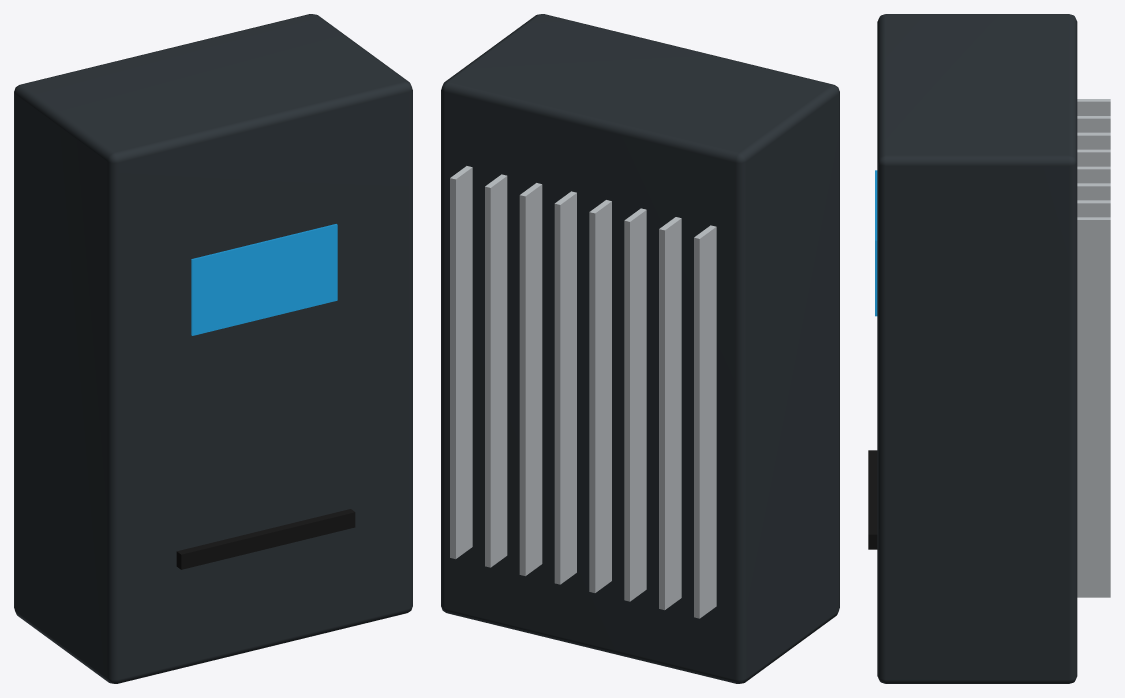
The model's file is dev_vsd.glb.
The picture shows the model from 3 angles, left to right: view 1: azimuth 30°, elevation 25°; view 2: azimuth 150°, elevation 25°; view 3: azimuth 270°, elevation 25°; orthographic projection.
Parts seen in each view (by area): view 1: Cube, Cube.009, Cube.010; view 2: Cube, Cube.006, Cube.001, Cube.003, Cube.007, Cube.002, Cube.005, Cube.008, Cube.004; view 3: Cube, Cube.008, Cube.010, Cube.003, Cube.004, Cube.005, Cube.006, Cube.007, Cube.001, Cube.002, Cube.009.
Part boxes in pixels (<box>): Cube: <box>14,14,412,683</box>; Cube.009: <box>191,224,337,335</box>; Cube.010: <box>176,509,355,569</box>; Cube: <box>441,14,839,683</box>; Cube.006: <box>519,183,542,576</box>; Cube.001: <box>694,225,716,618</box>; Cube.003: <box>624,208,646,601</box>; Cube.007: <box>485,174,507,567</box>; Cube.002: <box>659,217,681,610</box>; Cube.005: <box>554,191,576,584</box>; Cube.008: <box>450,166,472,559</box>; Cube.004: <box>589,200,611,592</box>; Cube: <box>877,14,1077,683</box>; Cube.008: <box>1077,217,1110,597</box>; Cube.010: <box>868,450,877,549</box>; Cube.003: <box>1077,132,1110,149</box>; Cube.004: <box>1077,149,1110,166</box>; Cube.005: <box>1077,166,1110,183</box>; Cube.006: <box>1077,183,1110,200</box>; Cube.007: <box>1077,200,1110,217</box>; Cube.001: <box>1077,99,1110,115</box>; Cube.002: <box>1077,116,1110,132</box>; Cube.009: <box>875,170,877,316</box>.
Size of the model in its own units: 0.42 by 0.7 by 0.291.
